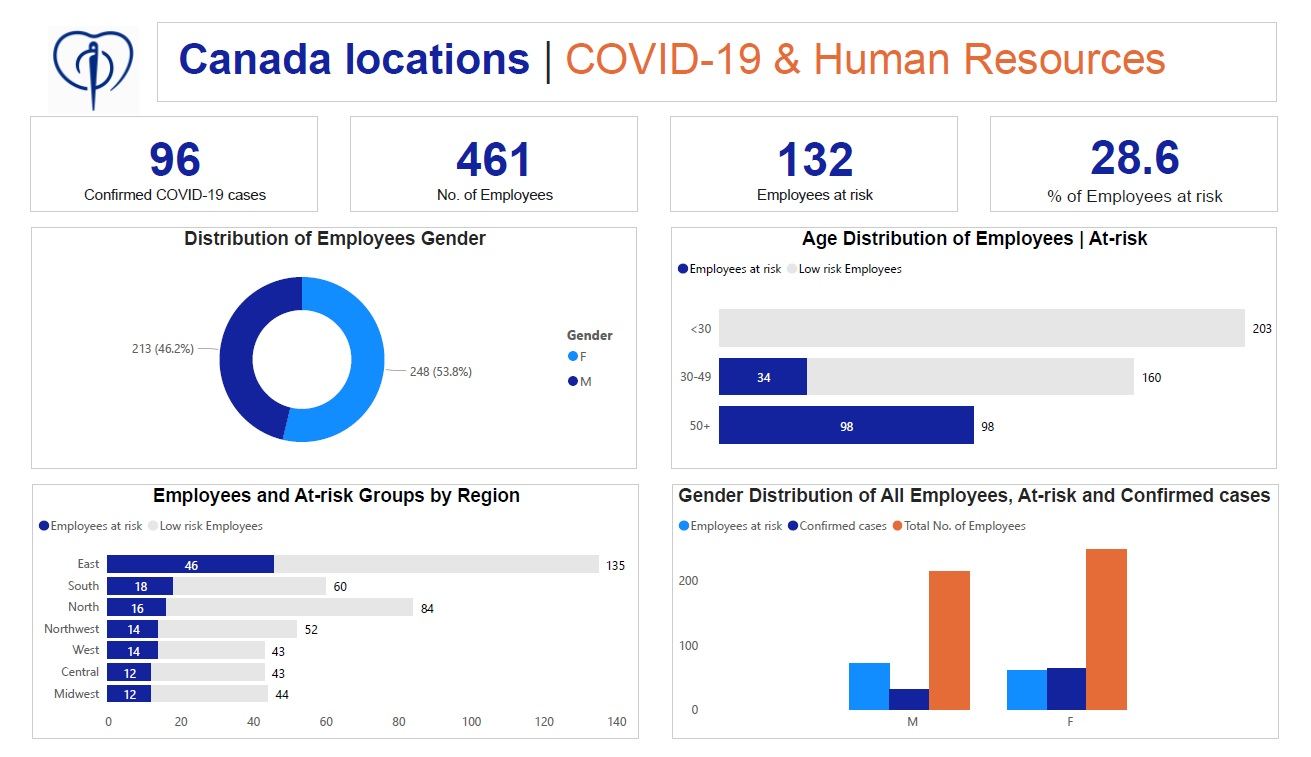

Layout of this report page (visuals, bound fields, positions):
{"tool":"powerbi","page":{"name":"Page 1","canvas":[1280,720],"ordinal":0},"visuals":[{"type":"card","fields":{"Values":["Sum(Total No of Employees.Total_Employees)"]},"box":[336,97.3,288,96],"z":1000},{"type":"card","fields":{"Values":["Sum(Count of Employees at risk.Employees_at_risk)"]},"box":[656,97.3,288,96],"z":2000},{"type":"barChart","title":"Employees and At-risk Groups by Region","fields":{"Category":["At-risk and NOT At-risk groups.Region"],"Y":["Sum(At-risk and NOT At-risk groups.Employees_at_risk)","Sum(At-risk and NOT At-risk groups.Low_risk_Employees)"]},"box":[18.3,465,606.7,255],"z":4000},{"type":"barChart","title":"Age Distribution of Employees | At-risk","fields":{"Category":["Sort table.AgeGroup"],"Y":["Sum(Age Distribution of Employees |.Employees_at_risk)","Sum(Age Distribution of Employees |.Low_risk_Employees)"]},"box":[656.7,208.3,606.7,241.7],"z":5000},{"type":"donutChart","title":"Distribution of Emplooyees Gender","fields":{"Category":["Total Gender of Employees.Gender"],"Y":["Sum(Total Gender of Employees.Total_Employees_Gender)"]},"box":[16.7,208.3,606.7,241.7],"z":6000},{"type":"clusteredColumnChart","title":"Distribution of Employees at risk, Confirmed cases and Gender","fields":{"Category":["At-risk, Confirmed COVID-19 cas.Gender"],"Y":["Sum(At-risk, Confirmed COVID-19 cas.Employees_at_risk)","Sum(At-risk, Confirmed COVID-19 cas.Confirmed_cases)","Sum(At-risk, Confirmed COVID-19 cas.Total_Employees)"]},"box":[658.3,465,606.7,255],"z":7000},{"type":"textbox","box":[143.3,3.3,1120,80],"z":8000},{"type":"card","fields":{"Values":["Count of Employees at risk.% of Employees at risk"]},"box":[976,97.3,288,96],"z":10000},{"type":"image","box":[0,3.3,160,96.7],"z":11000},{"type":"card","fields":{"Values":["Sum(Confirmed COVID-19 cases.count_cases)"]},"box":[16,97.3,288,96],"z":11500}]}

Visuals, with their boxes in screenshot pixels (x1, y1, x2, y2), scaled from the page's 1280x720 canvas onto the 1311x757 screenshot:
card - Sum(Total No of Employees.Total_Employees): bbox(344, 102, 639, 203)
card - Sum(Count of Employees at risk.Employees_at_risk): bbox(672, 102, 967, 203)
"Employees and At-risk Groups by Region" barChart: bbox(19, 489, 640, 756)
"Age Distribution of Employees | At-risk" barChart: bbox(673, 219, 1294, 473)
"Distribution of Emplooyees Gender" donutChart: bbox(17, 219, 638, 473)
"Distribution of Employees at risk, Confirmed cases and Gender" clusteredColumnChart: bbox(674, 489, 1296, 756)
textbox: bbox(147, 3, 1294, 88)
card - Count of Employees at risk.% of Employees at risk: bbox(1000, 102, 1295, 203)
image: bbox(0, 3, 164, 105)
card - Sum(Confirmed COVID-19 cases.count_cases): bbox(16, 102, 311, 203)
